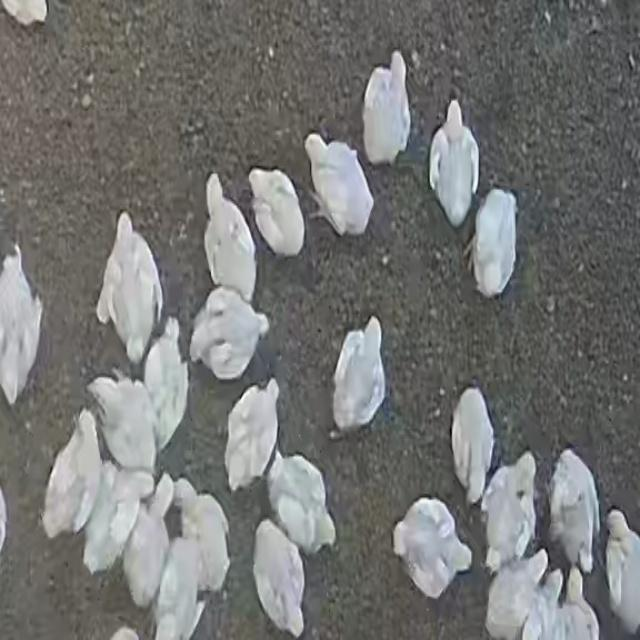chicken: (96, 214, 164, 365), (394, 498, 472, 600), (248, 514, 308, 638), (190, 287, 268, 382), (42, 411, 100, 537), (202, 174, 258, 303), (305, 134, 375, 237), (89, 373, 161, 473), (81, 458, 145, 568), (0, 244, 43, 406), (428, 96, 480, 226), (357, 48, 412, 169), (548, 450, 602, 572), (268, 456, 335, 551), (331, 316, 385, 432), (225, 380, 280, 490), (482, 457, 536, 569), (484, 550, 551, 638), (145, 320, 191, 447), (177, 480, 230, 589), (122, 493, 172, 607), (468, 187, 518, 298), (248, 165, 306, 256), (451, 387, 494, 506), (152, 539, 202, 638), (603, 511, 640, 626), (560, 566, 600, 637)
